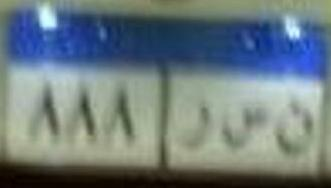8: (102, 83, 140, 145), (25, 83, 61, 144), (65, 83, 97, 143)
noon: (271, 97, 315, 159)
raa: (174, 101, 211, 153)
seen: (220, 104, 269, 154)
